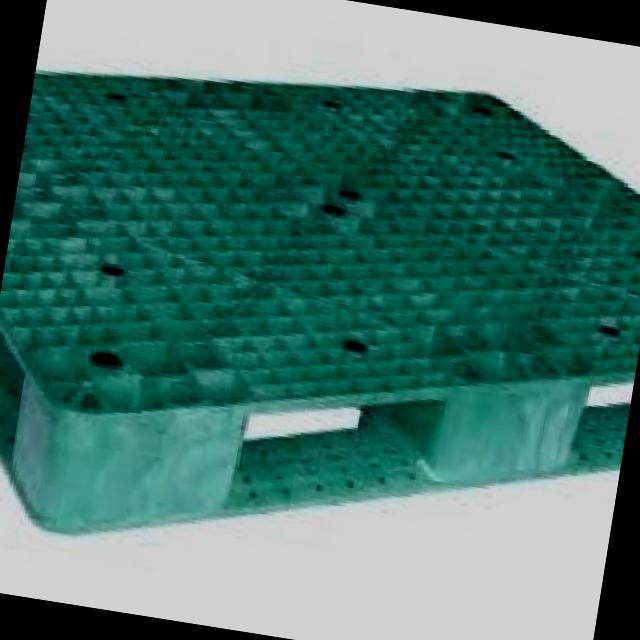pallet: (0, 3, 640, 640)
